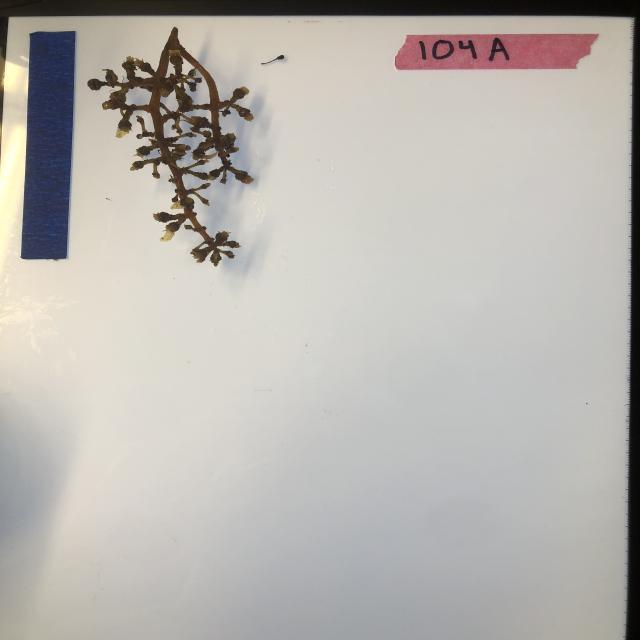index: (392, 32, 598, 70)
measure_label: (23, 29, 74, 260)
rachis_cluster: (84, 24, 260, 268)
